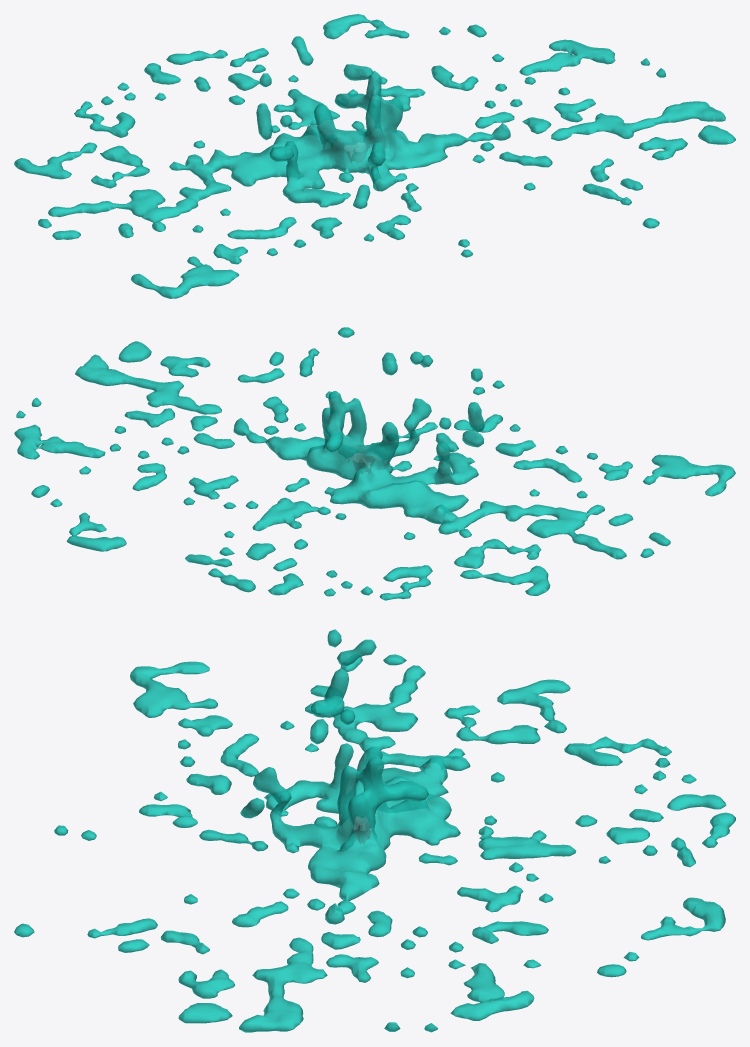
3 views of the same model, one above another, from view 1: azimuth 30°, elevation 25°; view 2: azimuth 150°, elevation 25°; view 3: azimuth 270°, elevation 25° (orthographic). The views are drawn at different scales.
Parts seen in each view (by area): view 1: Liquid_Domain; view 2: Liquid_Domain; view 3: Liquid_Domain.
Part boxes in pixels (bbox=[...]): Liquid_Domain: bbox=[14, 14, 735, 298]; Liquid_Domain: bbox=[14, 327, 735, 600]; Liquid_Domain: bbox=[14, 629, 735, 1032].
Bounding box in the file's own units: 12.15 × 2.59 × 9.92.
